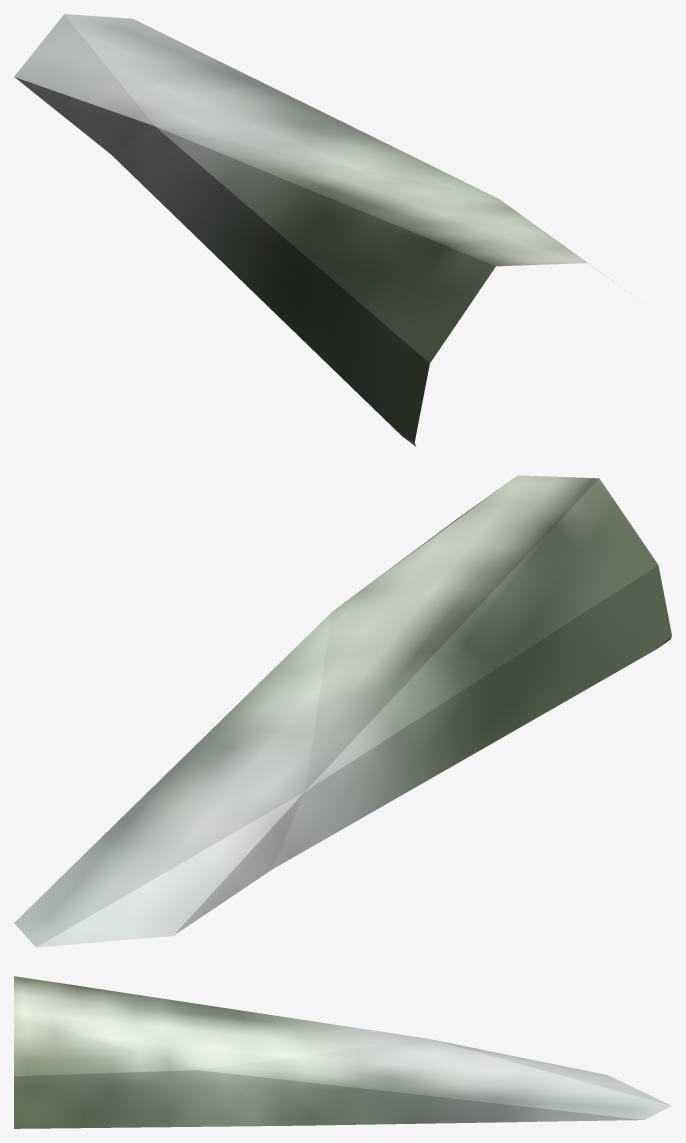
3 views of the same model, one above another, from view 1: azimuth 30°, elevation 25°; view 2: azimuth 150°, elevation 25°; view 3: azimuth 270°, elevation 25° (orthographic). The views are drawn at different scales.
Size of the model in its own units: 0.1504 by 0.09 by 0.5383.
1 material, 1 textured.
